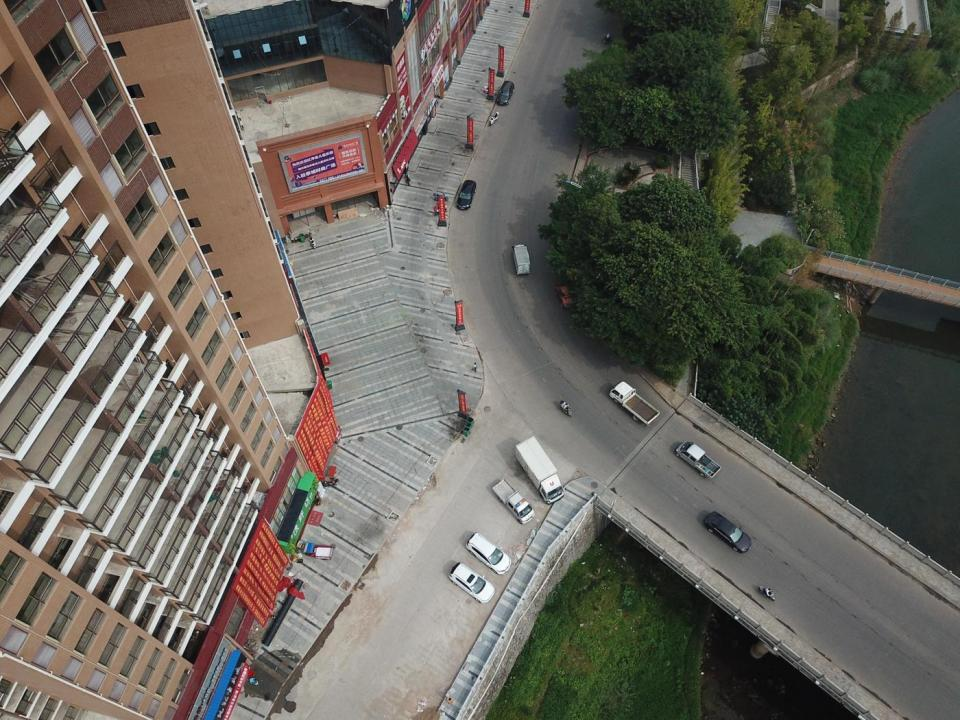car: (465, 532, 511, 576), (705, 510, 751, 553), (449, 562, 495, 604), (456, 179, 477, 209), (497, 80, 515, 104)
truck: (514, 436, 565, 505), (609, 381, 660, 425), (492, 478, 535, 525), (675, 440, 722, 479), (512, 244, 530, 276), (554, 281, 574, 307)
